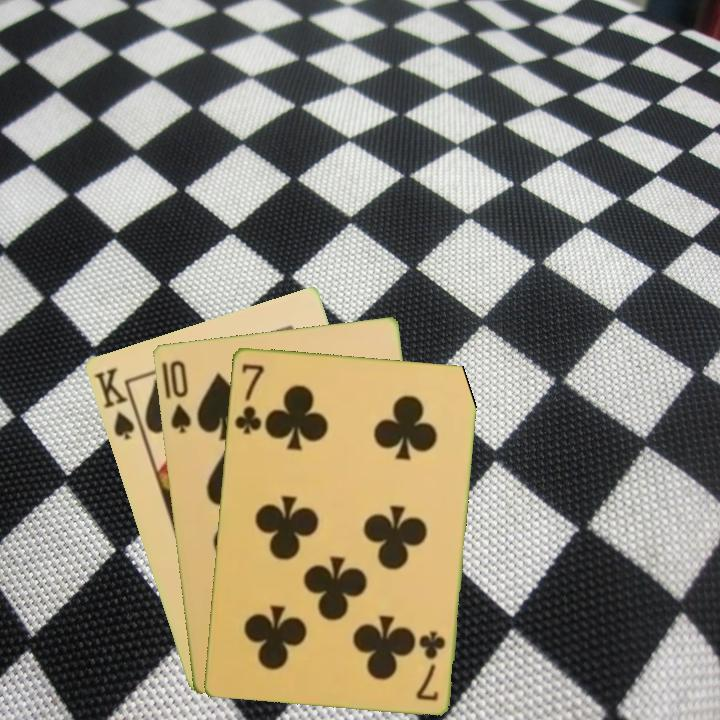10s: (166, 356, 194, 436)
7c: (231, 359, 267, 437), (412, 627, 448, 703)
Ks: (90, 363, 146, 443)
